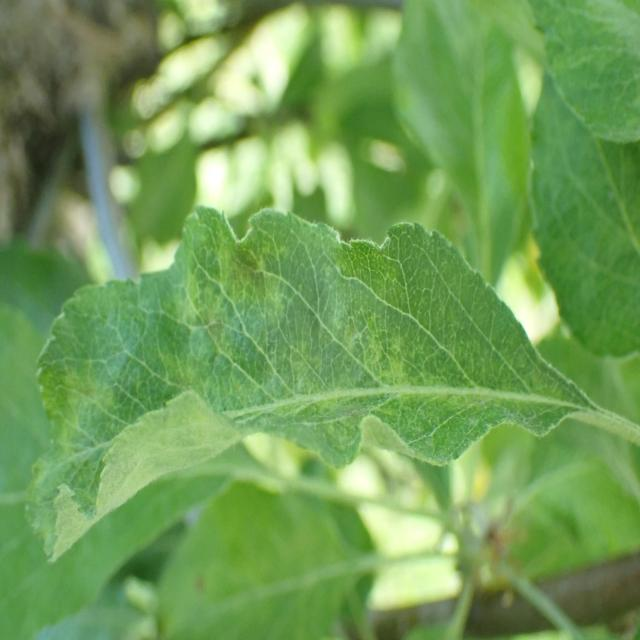scab: (29, 227, 518, 510)
